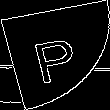P_N: (27, 26, 83, 84)
